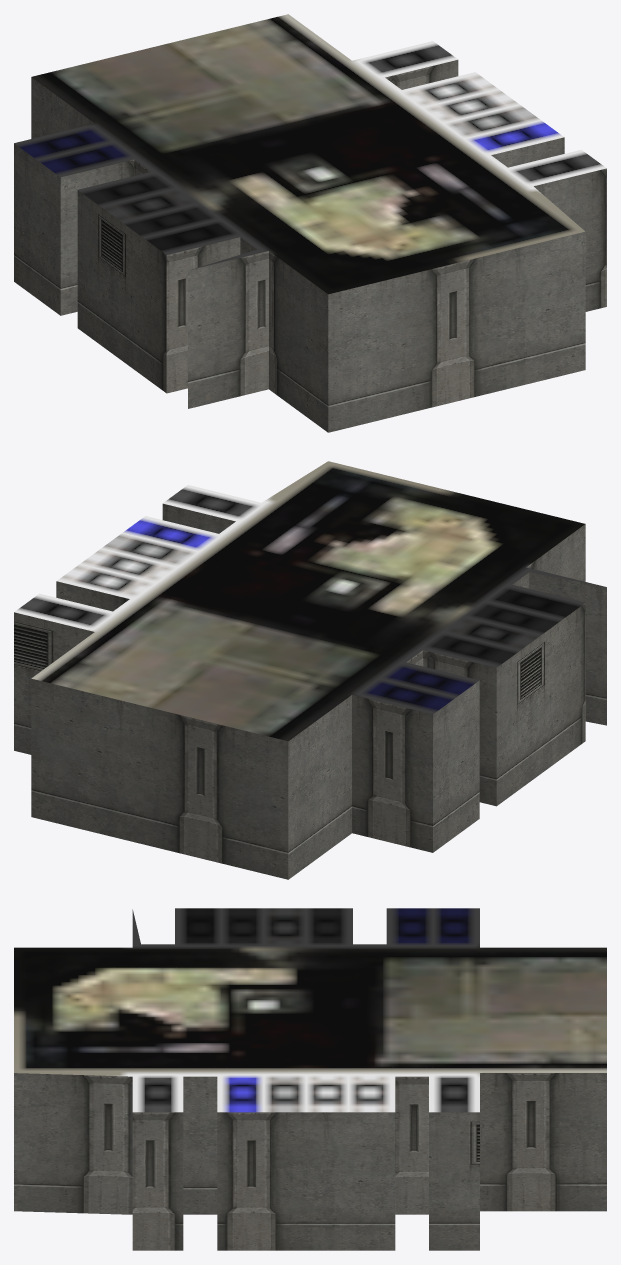
File: BuildingSystem-03-Advance-04-ReinforcedLow-Z-107-02.glb
The picture shows the model from 3 angles, top to bottom: view 1: azimuth 30°, elevation 25°; view 2: azimuth 150°, elevation 25°; view 3: azimuth 270°, elevation 25°; orthographic projection.
Visible parts, largest first — view 1: buildings/saxarba/SMV_Buildings/BuildingSystem-03-Advance-04; view 2: buildings/saxarba/SMV_Buildings/BuildingSystem-03-Advance-04; view 3: buildings/saxarba/SMV_Buildings/BuildingSystem-03-Advance-04.
Boxes of the visible parts, x1,y1,x2,y2 form: buildings/saxarba/SMV_Buildings/BuildingSystem-03-Advance-04: [14, 14, 606, 432]; buildings/saxarba/SMV_Buildings/BuildingSystem-03-Advance-04: [14, 461, 606, 879]; buildings/saxarba/SMV_Buildings/BuildingSystem-03-Advance-04: [14, 908, 606, 1250].
Bounding box in the file's own units: 57 × 18 × 70.
